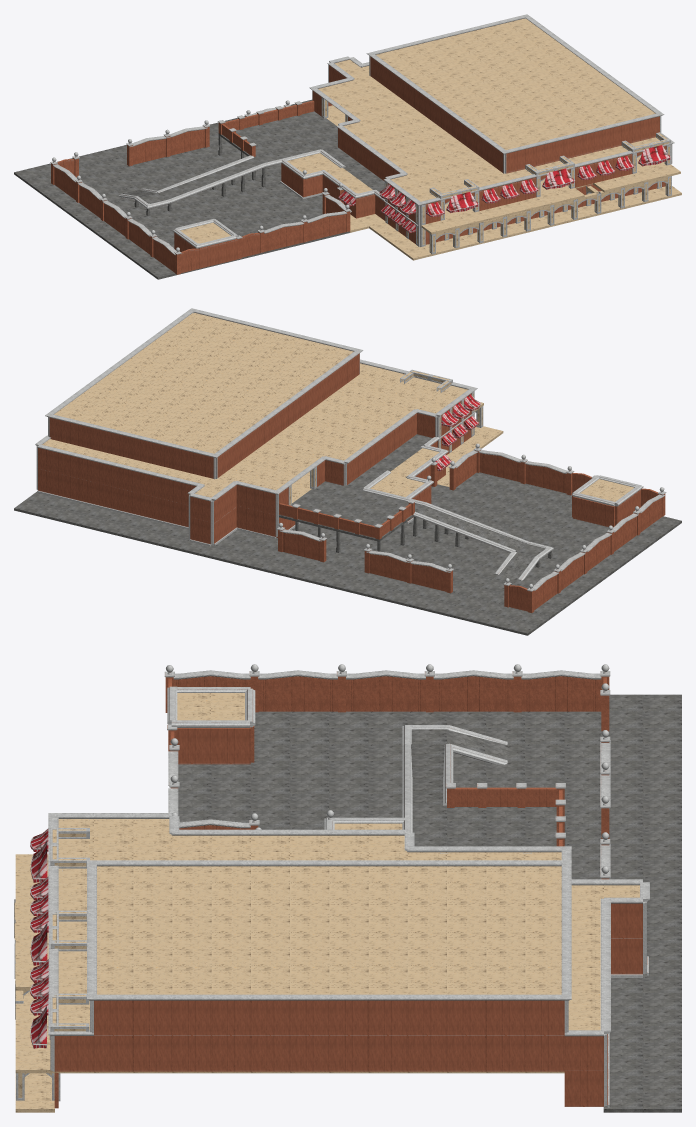
The model's file is golf_build.fbx.
3 views of the same model, one above another, from view 1: azimuth 30°, elevation 25°; view 2: azimuth 150°, elevation 25°; view 3: azimuth 270°, elevation 25° (orthographic). The views are drawn at different scales.
Parts seen in each view (by area): view 1: Golf_Fence_wall_20m__2_, Golf_Fence_wall_20m__3_, Golf_Fence_wall_20m__5_, Golf_Fence_wall_20m__4_, Golf_Fence_wall_20m__10_, Golf_Fence_wall_20m__6_, Golf_Fence_wall_20m__9_, Golf_Fence_wall_20m__11_, Golf_Fence_wall_20m__8_, Golf_Canopy_Large__4_, Golf_Canopy_Large__3_, Golf_Canopy_Large__2_ (+7 smaller); view 2: Golf_Fence_wall_20m__3_, Golf_Fence_wall_20m__2_, Golf_Fence_wall_20m__7_, Golf_Fence_wall_20m__5_, Golf_Fence_wall_20m__4_, Golf_Fence_wall_20m__9_, Golf_Fence_wall_20m__6_, Golf_Fence_wall_20m__8_, Golf_Fence_wall_20m__10_, Golf_Fence_wall_20m__11_, Golf_Fence_wall_20m__1_, Golf_Wall_Orange_10m__151_; view 3: Golf_Fence_wall_20m__8_, Golf_Fence_wall_20m__6_, Golf_Fence_wall_20m__9_, Golf_Fence_wall_20m__10_, Golf_Wall_Orange_10m__149_, Golf_Wall_Orange_10m__68_, Golf_Wall_Orange_10m__83_, Golf_Wall_Orange_10m__86_, Golf_Wall_Orange_10m__25_, Golf_Wall_Orange_10m__82_, Golf_Wall_Orange_10m__91_, Golf_Wall_Orange_10m__106_ (+148 smaller).
Part boxes in pixels (x1,y1,x2,y2): Golf_Fence_wall_20m__2_: (307, 211, 346, 241); Golf_Fence_wall_20m__3_: (264, 221, 304, 251); Golf_Fence_wall_20m__5_: (169, 126, 207, 155); Golf_Fence_wall_20m__4_: (129, 136, 168, 164); Golf_Fence_wall_20m__10_: (127, 218, 151, 254); Golf_Fence_wall_20m__6_: (53, 164, 77, 200); Golf_Fence_wall_20m__9_: (102, 200, 126, 236); Golf_Fence_wall_20m__11_: (152, 236, 176, 272); Golf_Fence_wall_20m__8_: (77, 182, 101, 218); Golf_Canopy_Large__4_: (638, 145, 671, 166); Golf_Canopy_Large__3_: (542, 168, 575, 189); Golf_Canopy_Large__2_: (446, 192, 478, 213); Golf_Fence_wall_20m__3_: (524, 461, 566, 493); Golf_Fence_wall_20m__2_: (479, 450, 520, 482); Golf_Fence_wall_20m__7_: (279, 529, 321, 560); Golf_Fence_wall_20m__5_: (366, 550, 408, 581); Golf_Fence_wall_20m__4_: (408, 560, 453, 591); Golf_Fence_wall_20m__9_: (586, 533, 611, 571); Golf_Fence_wall_20m__6_: (533, 571, 558, 609); Golf_Fence_wall_20m__8_: (559, 552, 585, 590); Golf_Fence_wall_20m__10_: (612, 513, 638, 551); Golf_Fence_wall_20m__11_: (639, 494, 664, 532); Golf_Fence_wall_20m__1_: (454, 450, 477, 487); Golf_Wall_Orange_10m__151_: (572, 496, 593, 523); Golf_Fence_wall_20m__8_: (433, 670, 513, 711); Golf_Fence_wall_20m__6_: (521, 670, 601, 711); Golf_Fence_wall_20m__9_: (346, 670, 425, 711); Golf_Fence_wall_20m__10_: (258, 670, 337, 711); Golf_Wall_Orange_10m__149_: (211, 727, 250, 764); Golf_Wall_Orange_10m__68_: (564, 1036, 603, 1071); Golf_Wall_Orange_10m__83_: (447, 1036, 486, 1071); Golf_Wall_Orange_10m__86_: (368, 1036, 407, 1071); Golf_Wall_Orange_10m__25_: (329, 1000, 368, 1035); Golf_Wall_Orange_10m__82_: (486, 1036, 525, 1071); Golf_Wall_Orange_10m__91_: (133, 1036, 172, 1071); Golf_Wall_Orange_10m__106_: (54, 1036, 93, 1071).
Size of the model in its own units: 25120 by 3358 by 17031.
